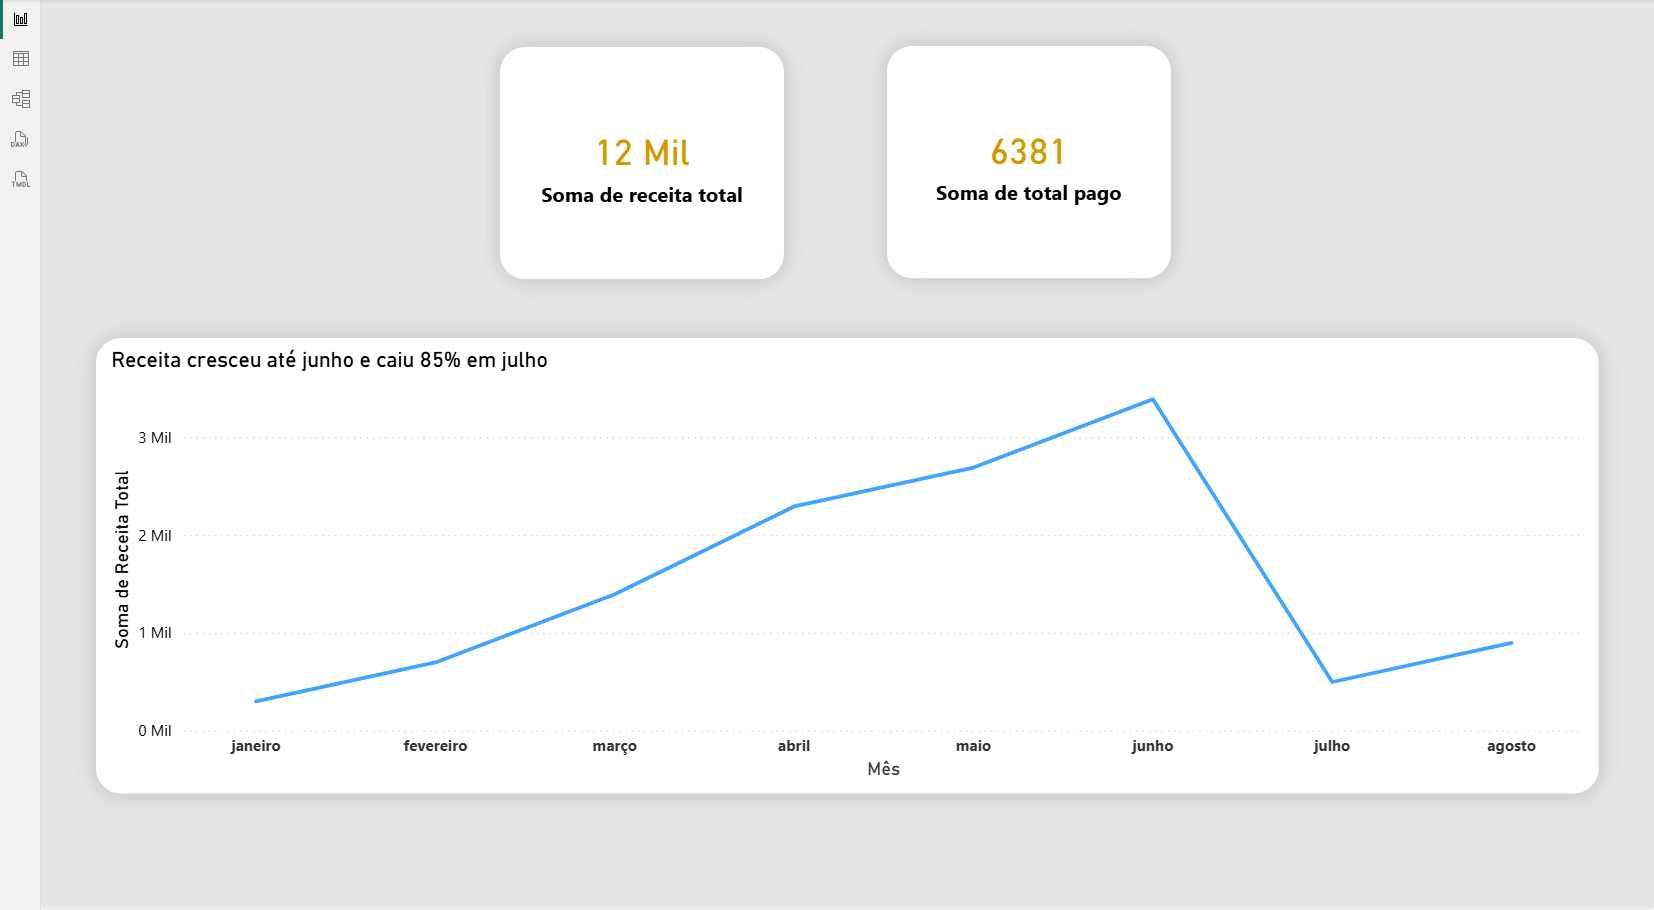

The dashboard page shown, as its layout file describes it:
{"tool":"powerbi","page":{"name":"Visão Geral","canvas":[1280,720],"ordinal":0},"visuals":[{"type":"lineChart","title":"Receita cresceu até junho e caiu 85% em julho","fields":{"Category":["02_receita_mensal.mes.Variation.Hierarquia de datas.Mês"],"Y":["Sum(02_receita_mensal.receita_total)"]},"box":[43.4,268.6,1190.9,361.1],"z":0},{"type":"card","fields":{"Values":["Sum(02_receita_mensal.receita_total)"]},"box":[363.4,37.7,225.1,184],"z":1000},{"type":"card","fields":{"Values":["Sum(08_mrr.total_pago)"]},"box":[640,37.7,233.1,184],"z":2000}]}

Visuals, with their boxes on the page's 1280x720 design canvas (x1, y1, x2, y2). These are canvas units, not pixel positions in the 1654x910 screenshot, which may show the page scaled, cropped or inside an application window:
"Receita cresceu até junho e caiu 85% em julho" lineChart: bbox(43, 269, 1234, 630)
card - Sum(02_receita_mensal.receita_total): bbox(363, 38, 588, 222)
card - Sum(08_mrr.total_pago): bbox(640, 38, 873, 222)
